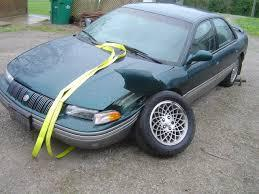fender-dent: (134, 66, 188, 101)
